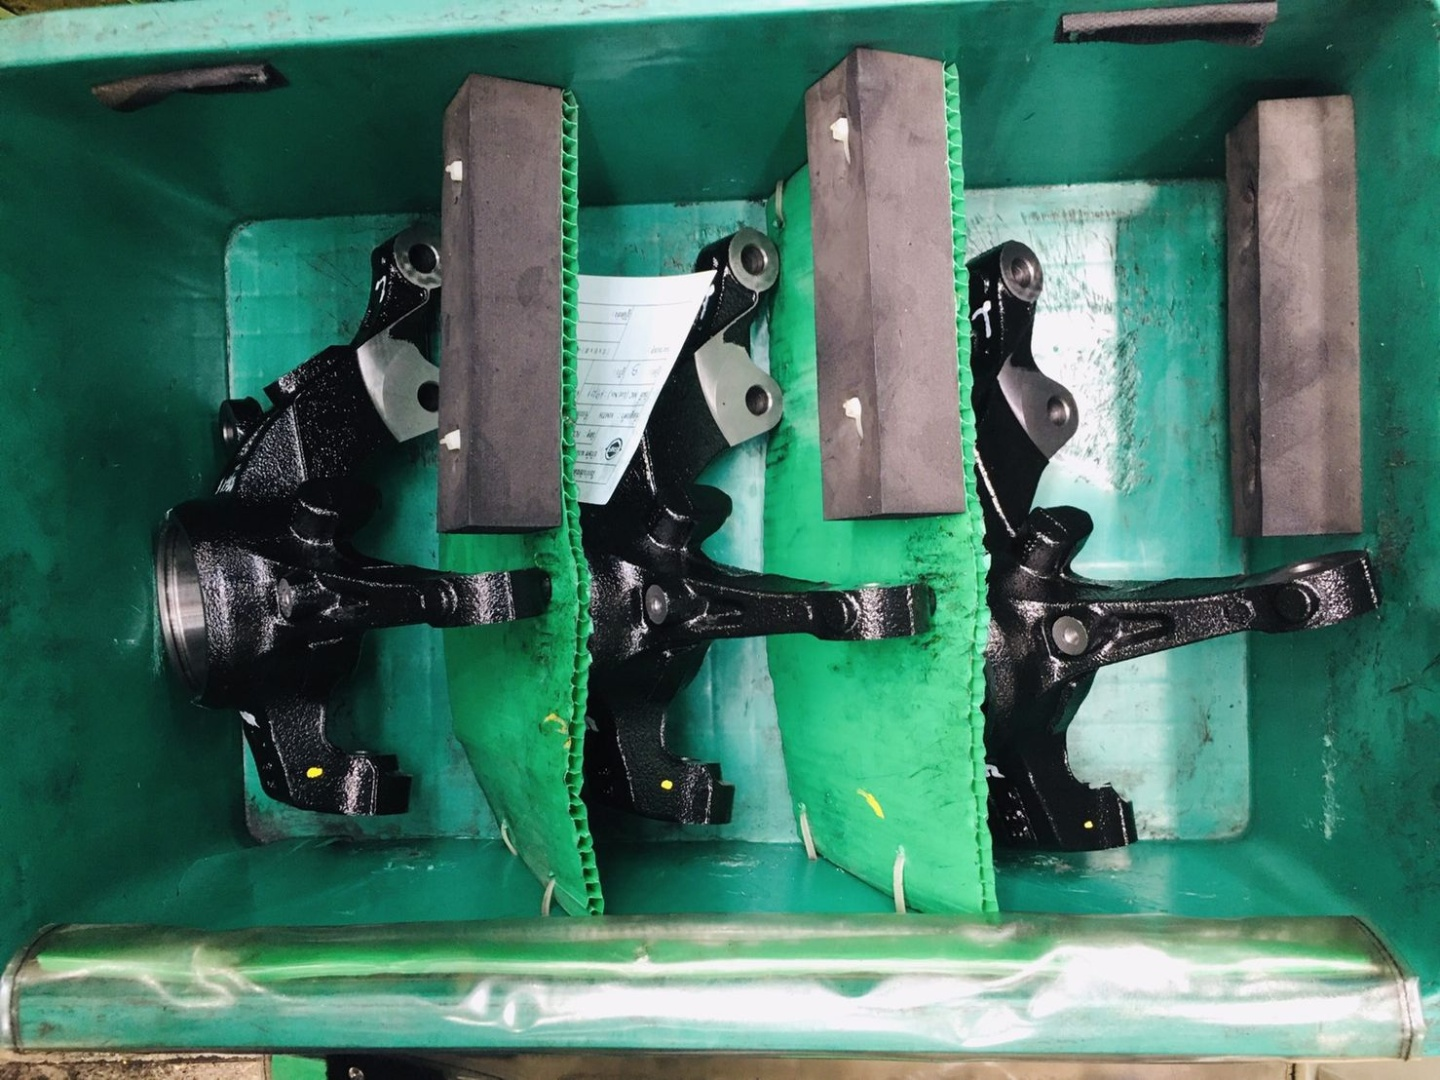non-lh: (952, 220, 1396, 871), (144, 210, 556, 827), (564, 213, 940, 841)
